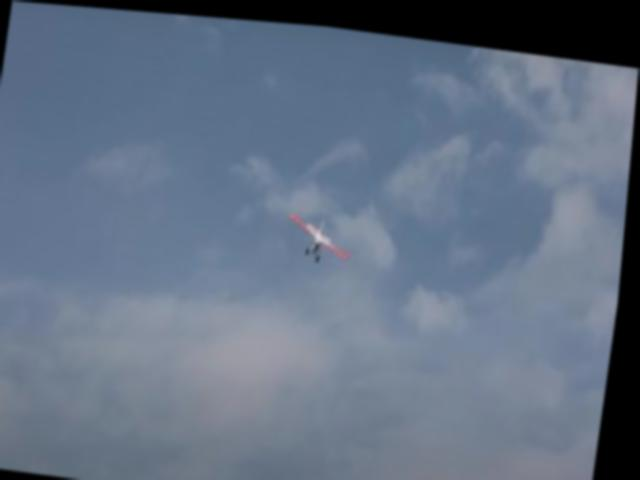uav: (283, 197, 361, 268)
